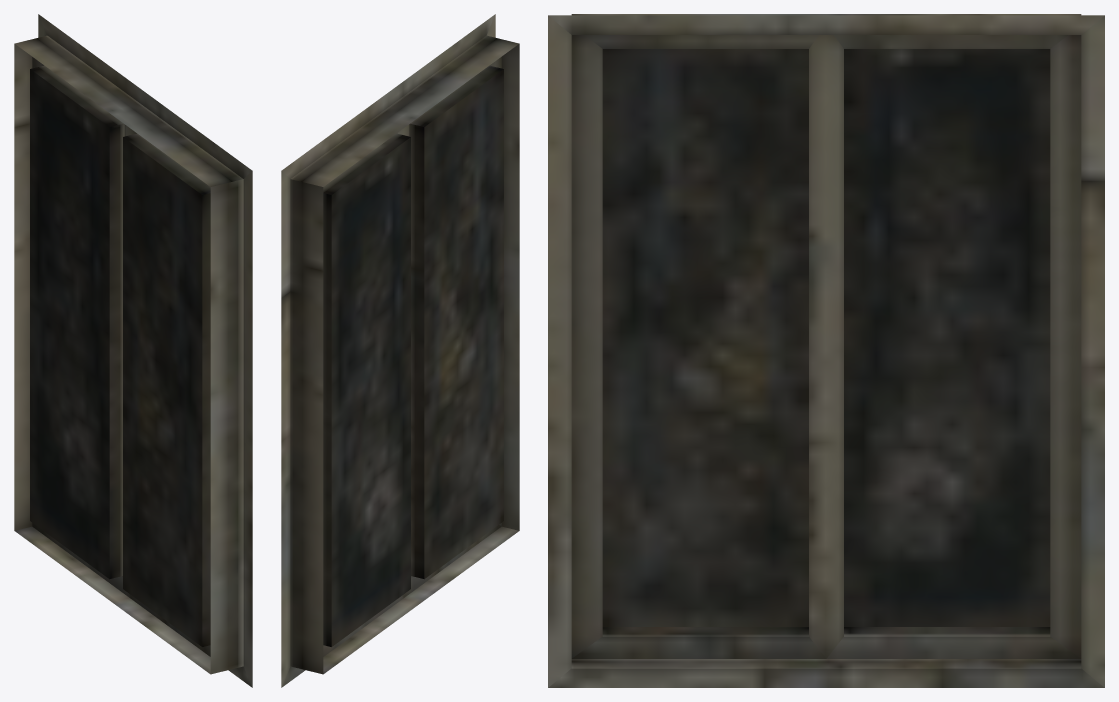
Rendered from DoubleWindow.FBX.
3 renders of one model, left to right at view 1: azimuth 30°, elevation 25°; view 2: azimuth 150°, elevation 25°; view 3: azimuth 270°, elevation 25°, orthographic. The views are drawn at different scales.
Visible parts, largest first — view 1: DoubleWindow; view 2: DoubleWindow; view 3: DoubleWindow.
Boxes of the visible parts, x1,y1,x2,y2 form: DoubleWindow: (14,14,252,687); DoubleWindow: (281,14,519,687); DoubleWindow: (548,14,1104,687).
Bounding box in the file's own units: 13.82 × 207 × 156.
